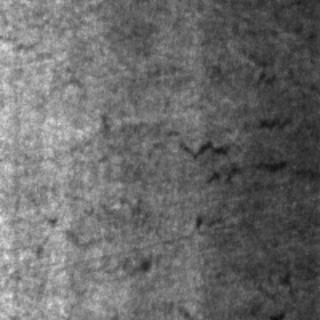crazing: (178, 110, 314, 238)
